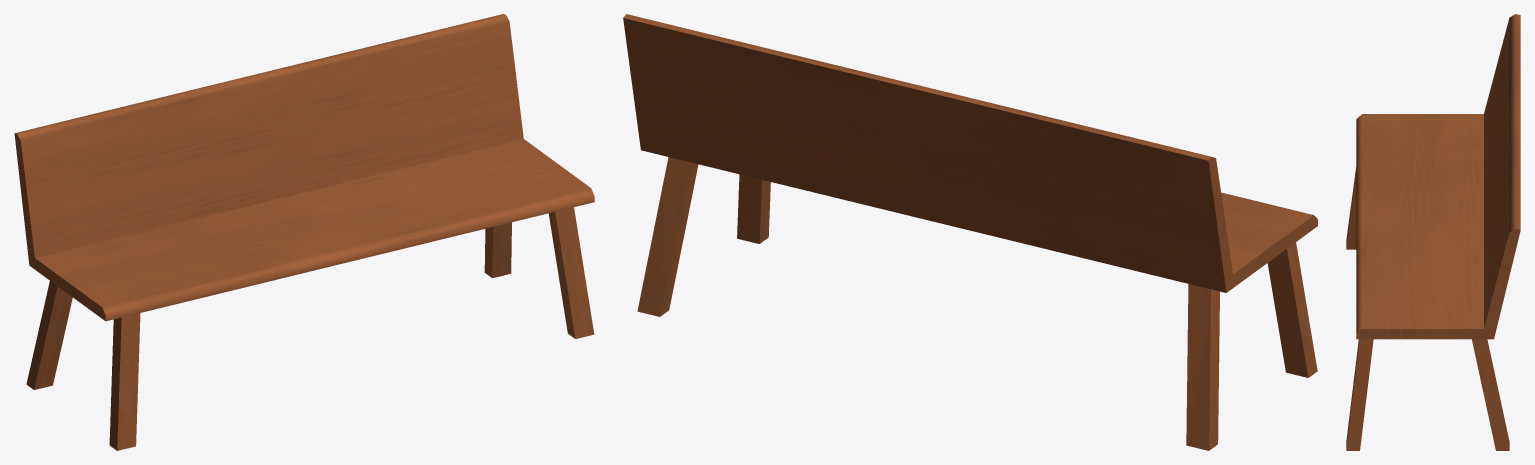
Rendered from Bench_v3.fbx.
The picture shows the model from 3 angles, left to right: view 1: azimuth 30°, elevation 25°; view 2: azimuth 150°, elevation 25°; view 3: azimuth 270°, elevation 25°; orthographic projection. The views are drawn at different scales.
Parts seen in each view (by area): view 1: Bench_v3_01; view 2: Bench_v3_01; view 3: Bench_v3_01.
Part boxes in pixels (bbox=[...]): Bench_v3_01: bbox=[14, 14, 594, 450]; Bench_v3_01: bbox=[623, 14, 1317, 450]; Bench_v3_01: bbox=[1346, 14, 1520, 450].
Size of the model in its own units: 2.26 by 1.1 by 0.7753.
